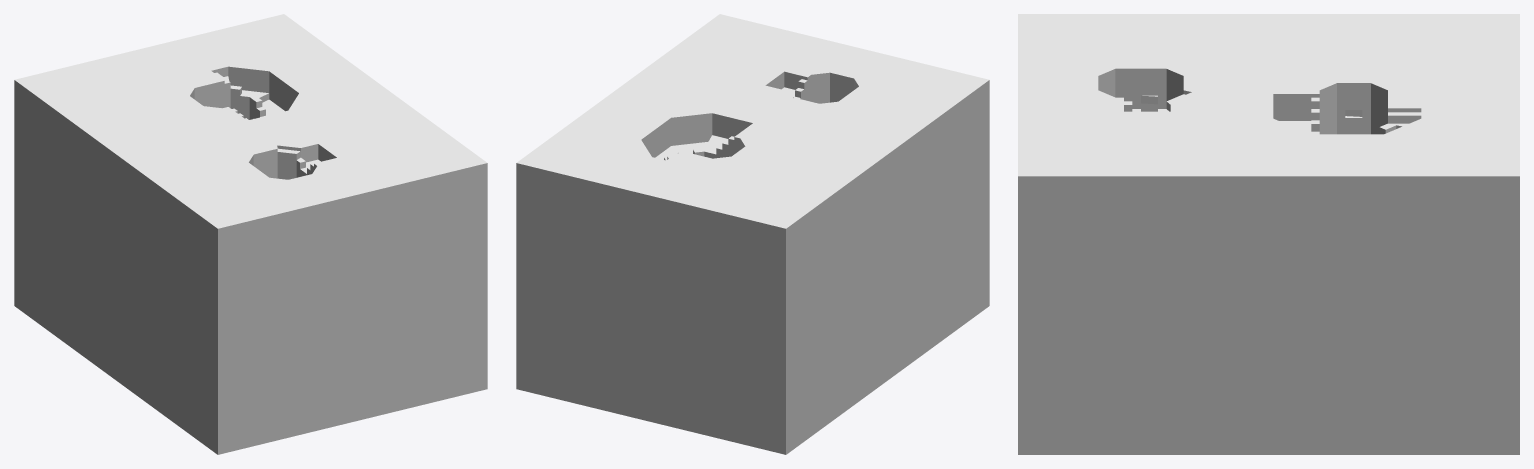
File: test_apdm3.fbx
3 views of the same model, side by side, from view 1: azimuth 30°, elevation 25°; view 2: azimuth 150°, elevation 25°; view 3: azimuth 270°, elevation 25° (orthographic). The views are drawn at different scales.
Visible parts, largest first — view 1: bsp_model_0; view 2: bsp_model_0; view 3: bsp_model_0.
Part boxes in pixels (x1,y1,x2,y2): bsp_model_0: (14, 14, 487, 454); bsp_model_0: (516, 14, 989, 454); bsp_model_0: (1018, 14, 1519, 454).
Size of the model in its own units: 45.09 by 36.12 by 58.92.
1 material, 1 textured.
